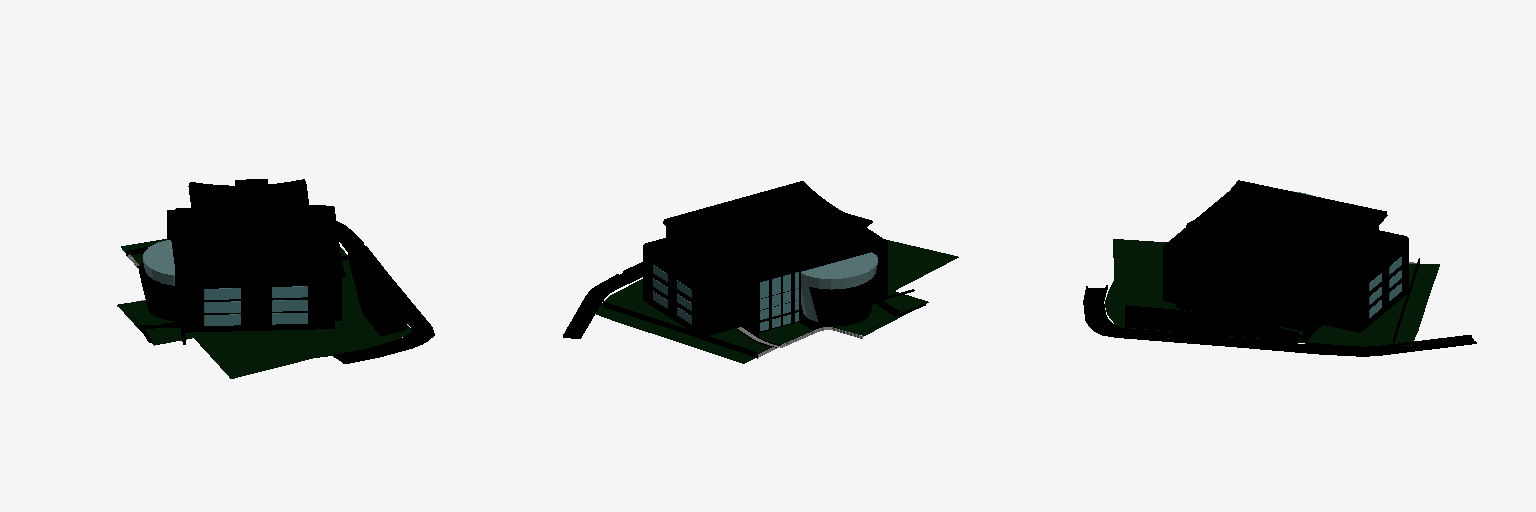
File: CEDETECtga.obj
The picture shows the model from 3 angles: view 1: azimuth 30°, elevation 25°; view 2: azimuth 150°, elevation 25°; view 3: azimuth 270°, elevation 25°; orthographic projection.
Parts seen in each view (by area): view 1: TEC_SIN_TEXTURAS1:pCube81, TEC_SIN_TEXTURAS1:pCube1, TEC_SIN_TEXTURAS1:pPlane11, TEC_SIN_TEXTURAS1:pPlane8, TEC_SIN_TEXTURAS1:pCube39, TEC_SIN_TEXTURAS1:group3pCylinder3, TEC_SIN_TEXTURAS1:pCylinder3; view 2: TEC_SIN_TEXTURAS1:pCube81, TEC_SIN_TEXTURAS1:pCube1, TEC_SIN_TEXTURAS1:pPlane11, TEC_SIN_TEXTURAS1:group3pCylinder3, TEC_SIN_TEXTURAS1:pCylinder3, TEC_SIN_TEXTURAS1:pPlane8, TEC_SIN_TEXTURAS1:pPlane1, TEC_SIN_TEXTURAS1:pCube63, TEC_SIN_TEXTURAS1:pCube158; view 3: TEC_SIN_TEXTURAS1:pCube81, TEC_SIN_TEXTURAS1:pCube1, TEC_SIN_TEXTURAS1:pPlane11, TEC_SIN_TEXTURAS1:pPlane8, TEC_SIN_TEXTURAS1:pCube39, TEC_SIN_TEXTURAS1:pCube158.
Boxes of the visible parts, <box> form: TEC_SIN_TEXTURAS1:pCube81: <box>137,205,341,332</box>; TEC_SIN_TEXTURAS1:pCube1: <box>188,179,315,260</box>; TEC_SIN_TEXTURAS1:pPlane11: <box>117,239,411,378</box>; TEC_SIN_TEXTURAS1:pPlane8: <box>333,221,434,363</box>; TEC_SIN_TEXTURAS1:pCube39: <box>348,250,406,335</box>; TEC_SIN_TEXTURAS1:group3pCylinder3: <box>139,262,174,320</box>; TEC_SIN_TEXTURAS1:pCylinder3: <box>143,240,174,285</box>; TEC_SIN_TEXTURAS1:pCube81: <box>643,227,887,347</box>; TEC_SIN_TEXTURAS1:pCube1: <box>663,181,866,264</box>; TEC_SIN_TEXTURAS1:pPlane11: <box>592,239,958,363</box>; TEC_SIN_TEXTURAS1:group3pCylinder3: <box>809,268,880,325</box>; TEC_SIN_TEXTURAS1:pCylinder3: <box>801,252,877,321</box>; TEC_SIN_TEXTURAS1:pPlane8: <box>563,213,872,338</box>; TEC_SIN_TEXTURAS1:pPlane1: <box>760,272,798,330</box>; TEC_SIN_TEXTURAS1:pCube63: <box>603,301,757,358</box>; TEC_SIN_TEXTURAS1:pCube158: <box>664,242,697,267</box>; TEC_SIN_TEXTURAS1:pCube81: <box>1163,192,1408,334</box>; TEC_SIN_TEXTURAS1:pCube1: <box>1186,180,1387,259</box>; TEC_SIN_TEXTURAS1:pPlane11: <box>1105,239,1439,346</box>; TEC_SIN_TEXTURAS1:pPlane8: <box>1083,285,1476,356</box>; TEC_SIN_TEXTURAS1:pCube39: <box>1125,305,1298,341</box>; TEC_SIN_TEXTURAS1:pCube158: <box>1356,239,1387,264</box>.
Bounding box in the file's own units: 10.89 × 2.99 × 13.93.